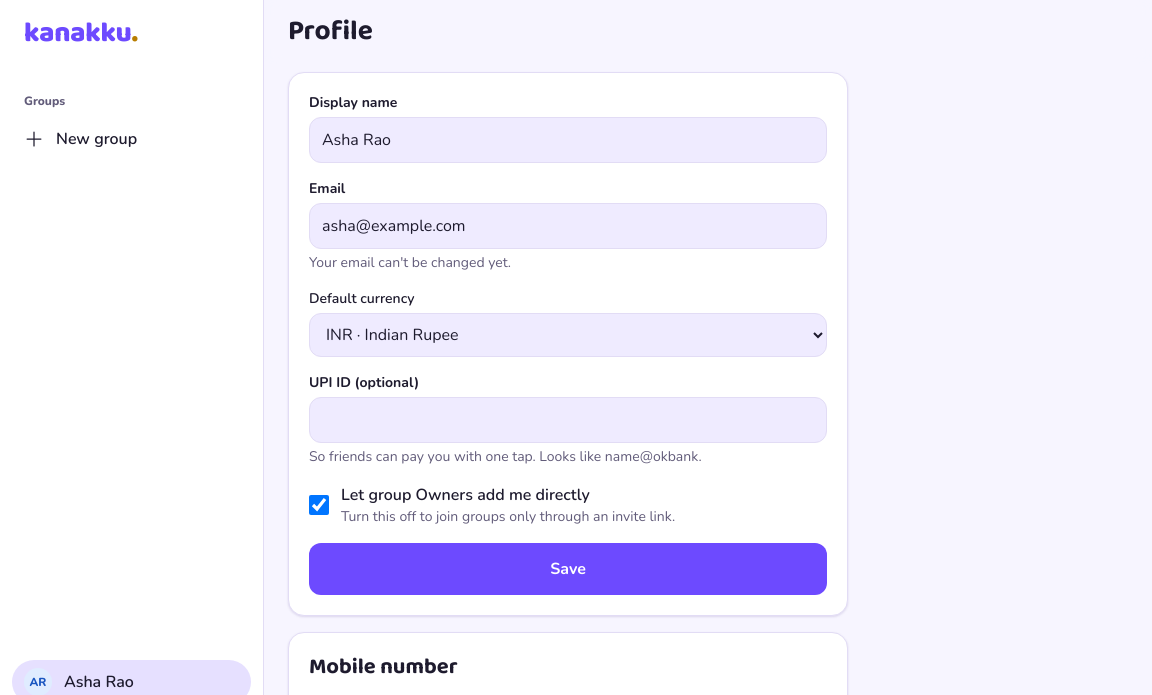
Scenario: ProfilePage › changes the currency
Select "EUR" in the dropdown labelled "Default currency" at (568, 335), box [309,313,827,357]
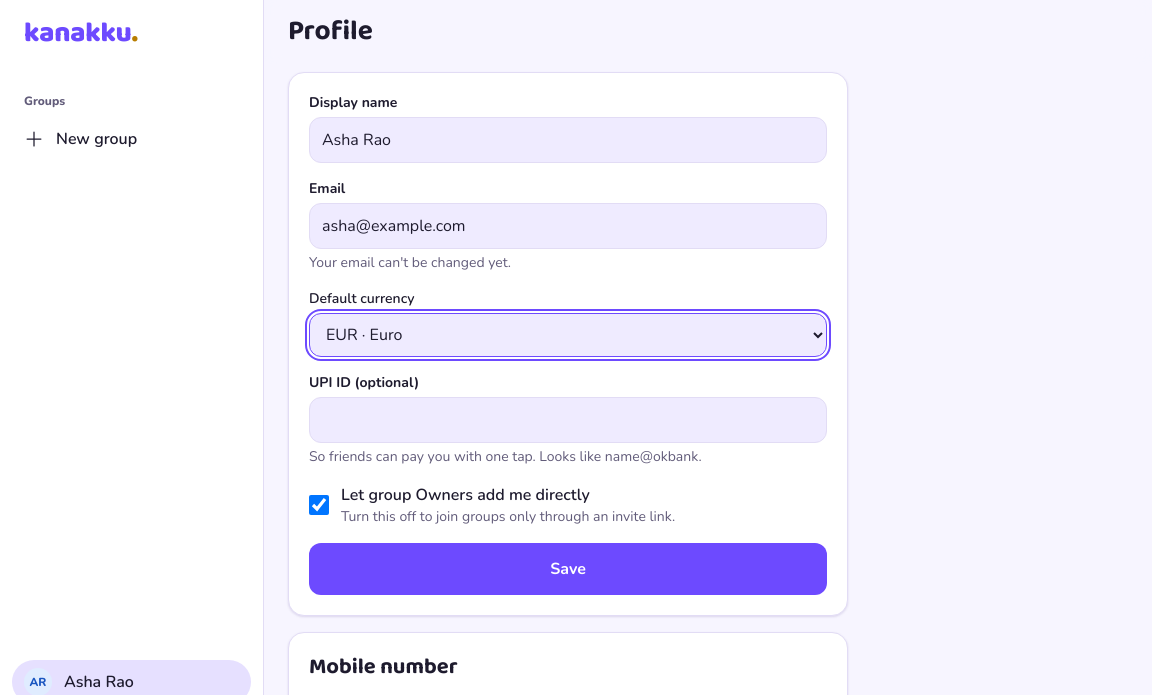
Click the button "Save" at (568, 569), box [309,543,827,595]
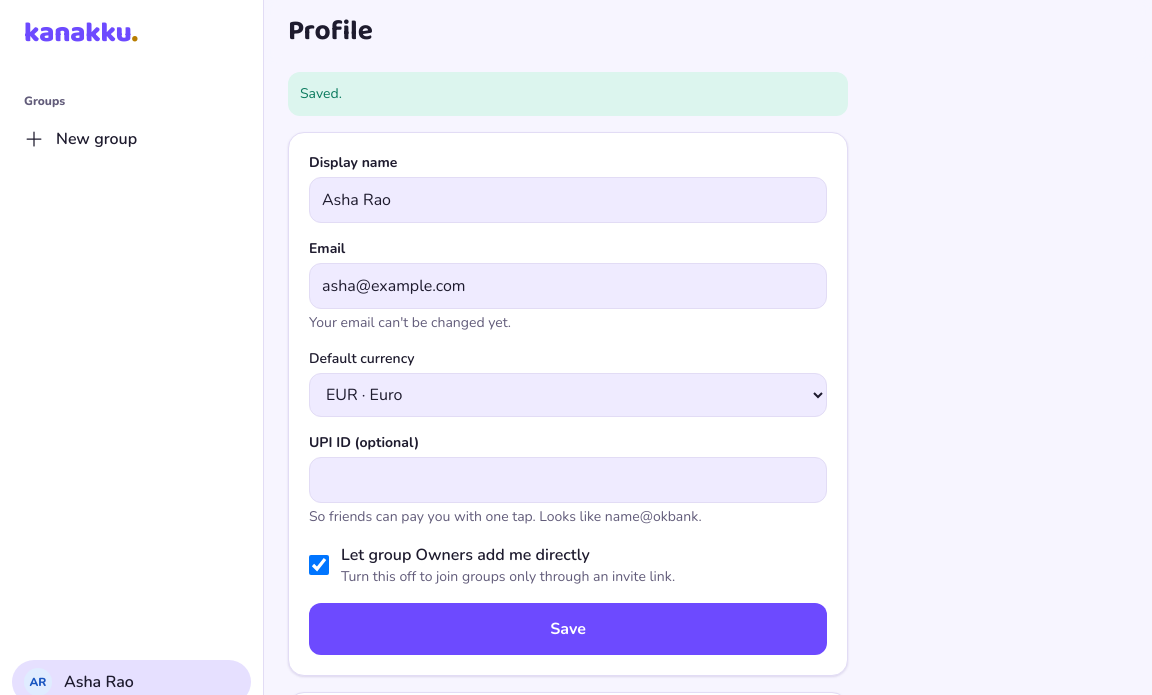
expect the message "Saved." is shown: met, box [288,72,848,116]
